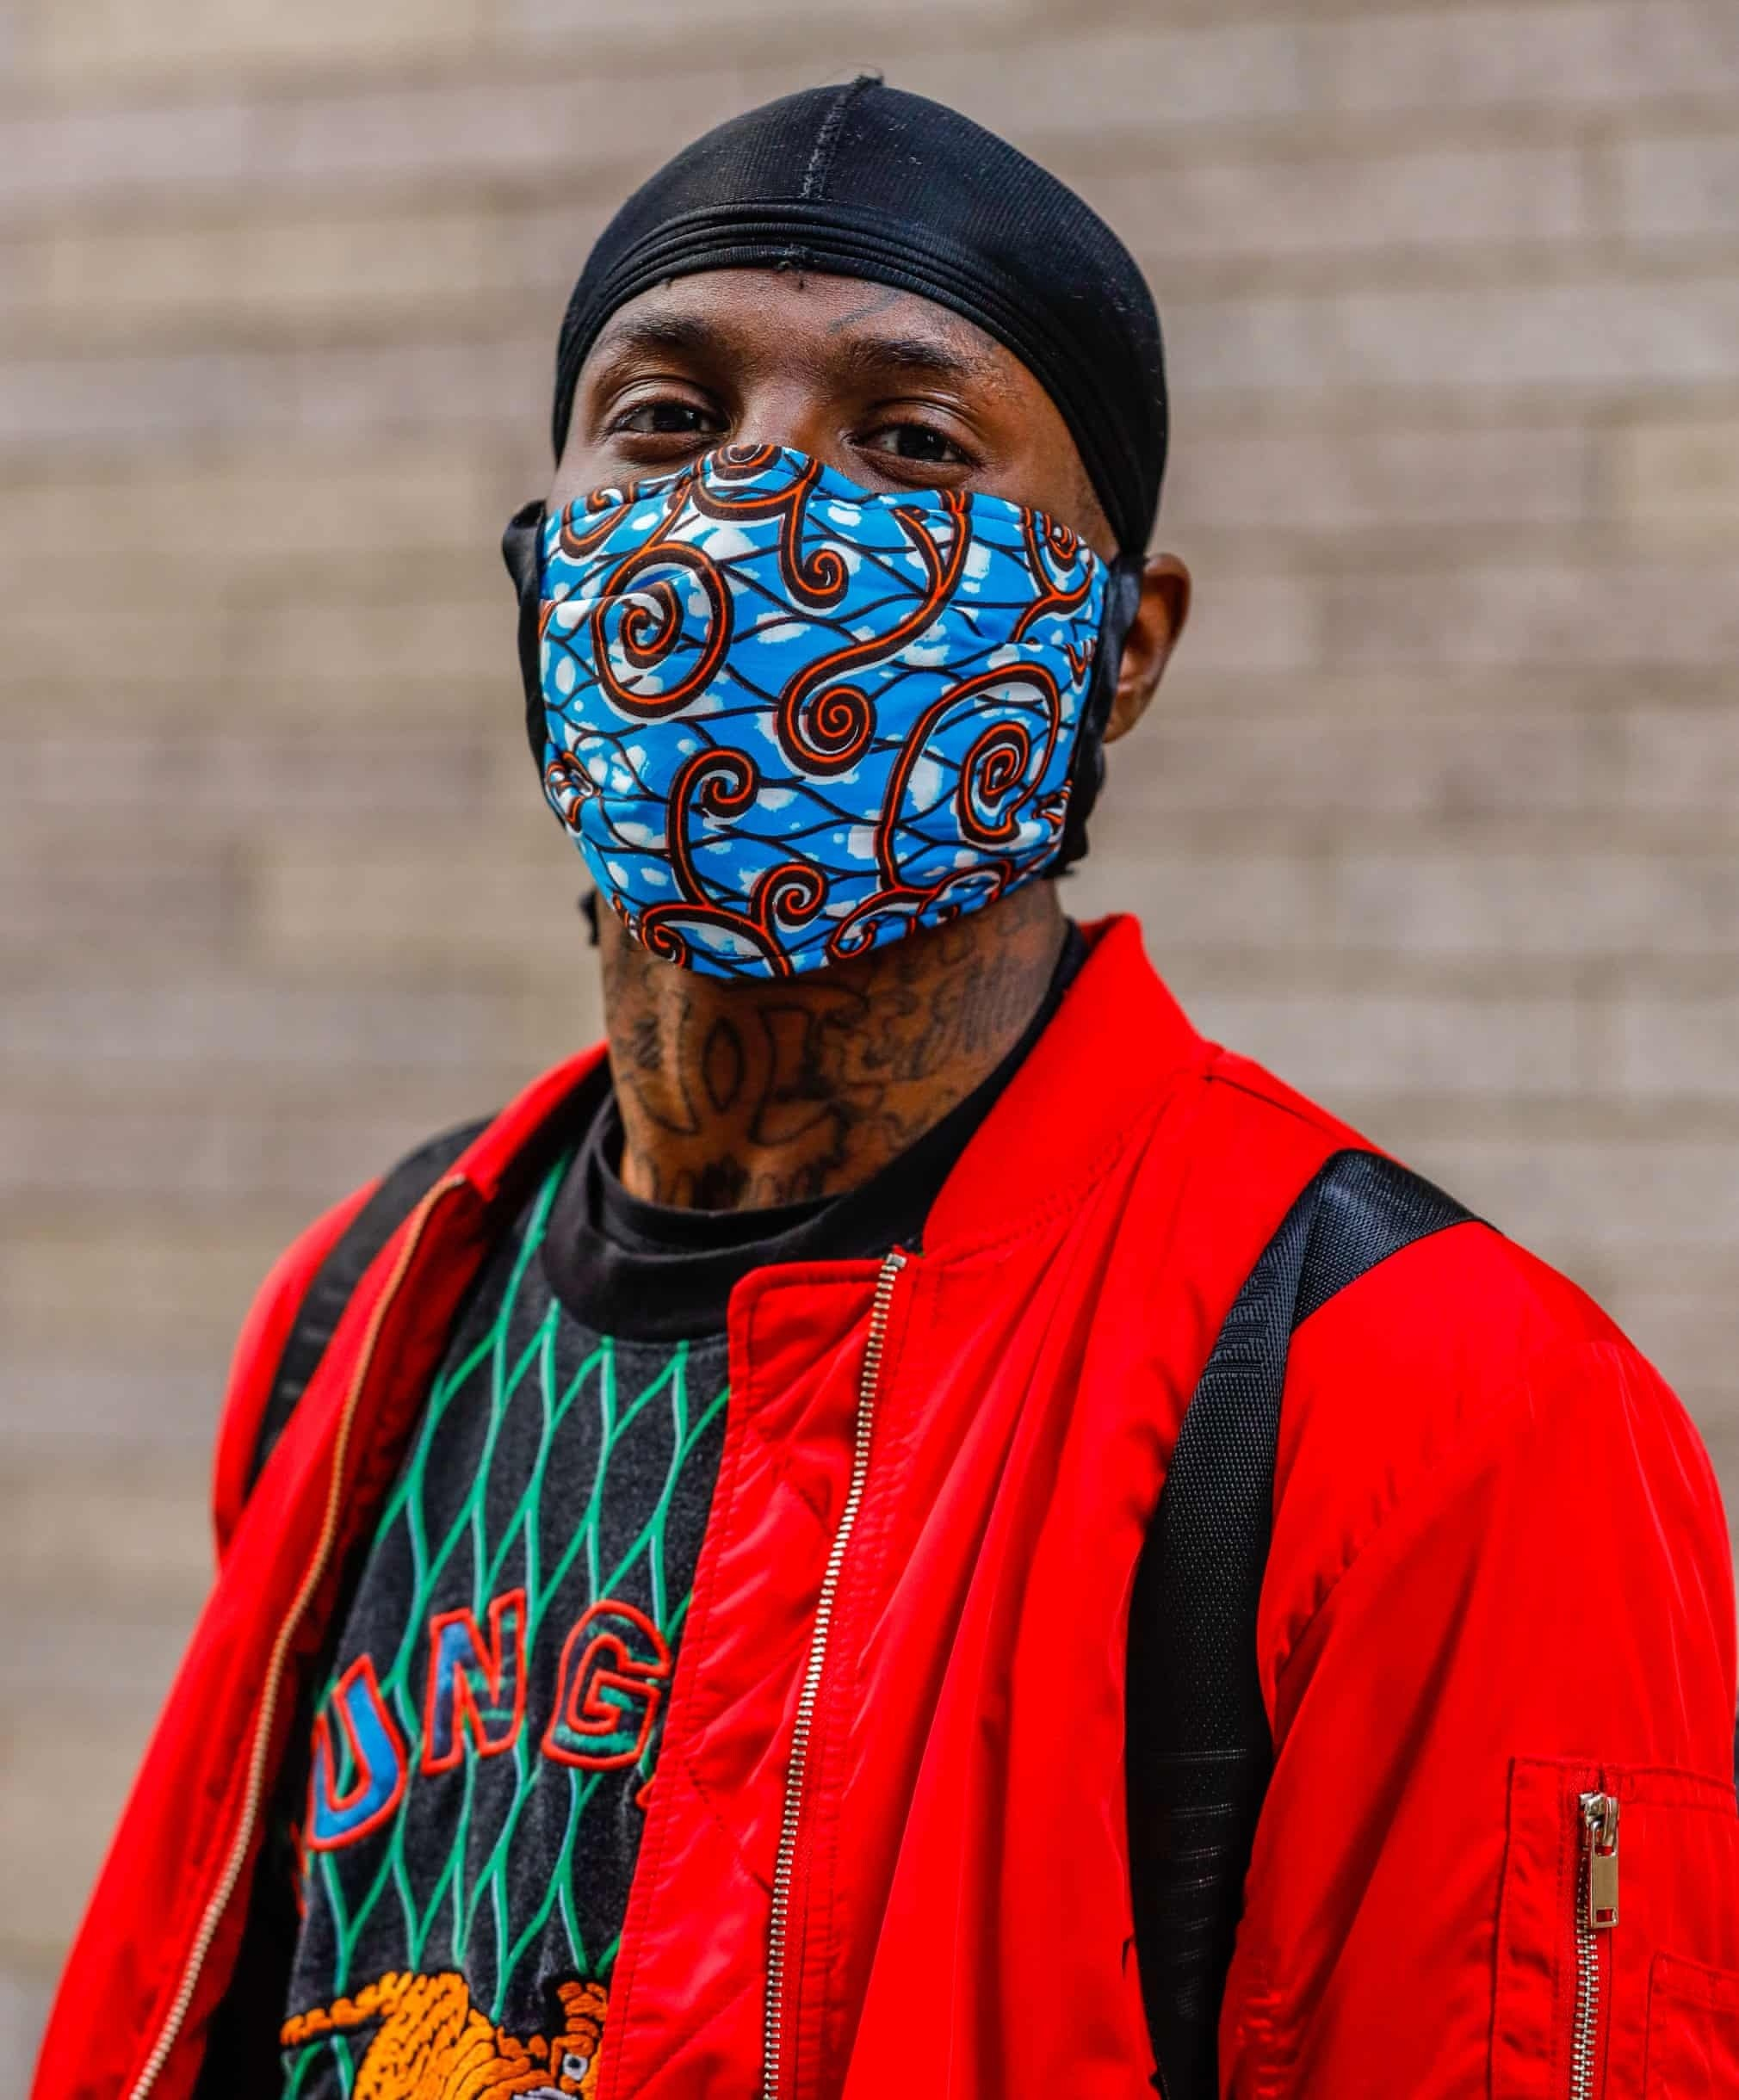face_with_mask: (517, 95, 1131, 994)
